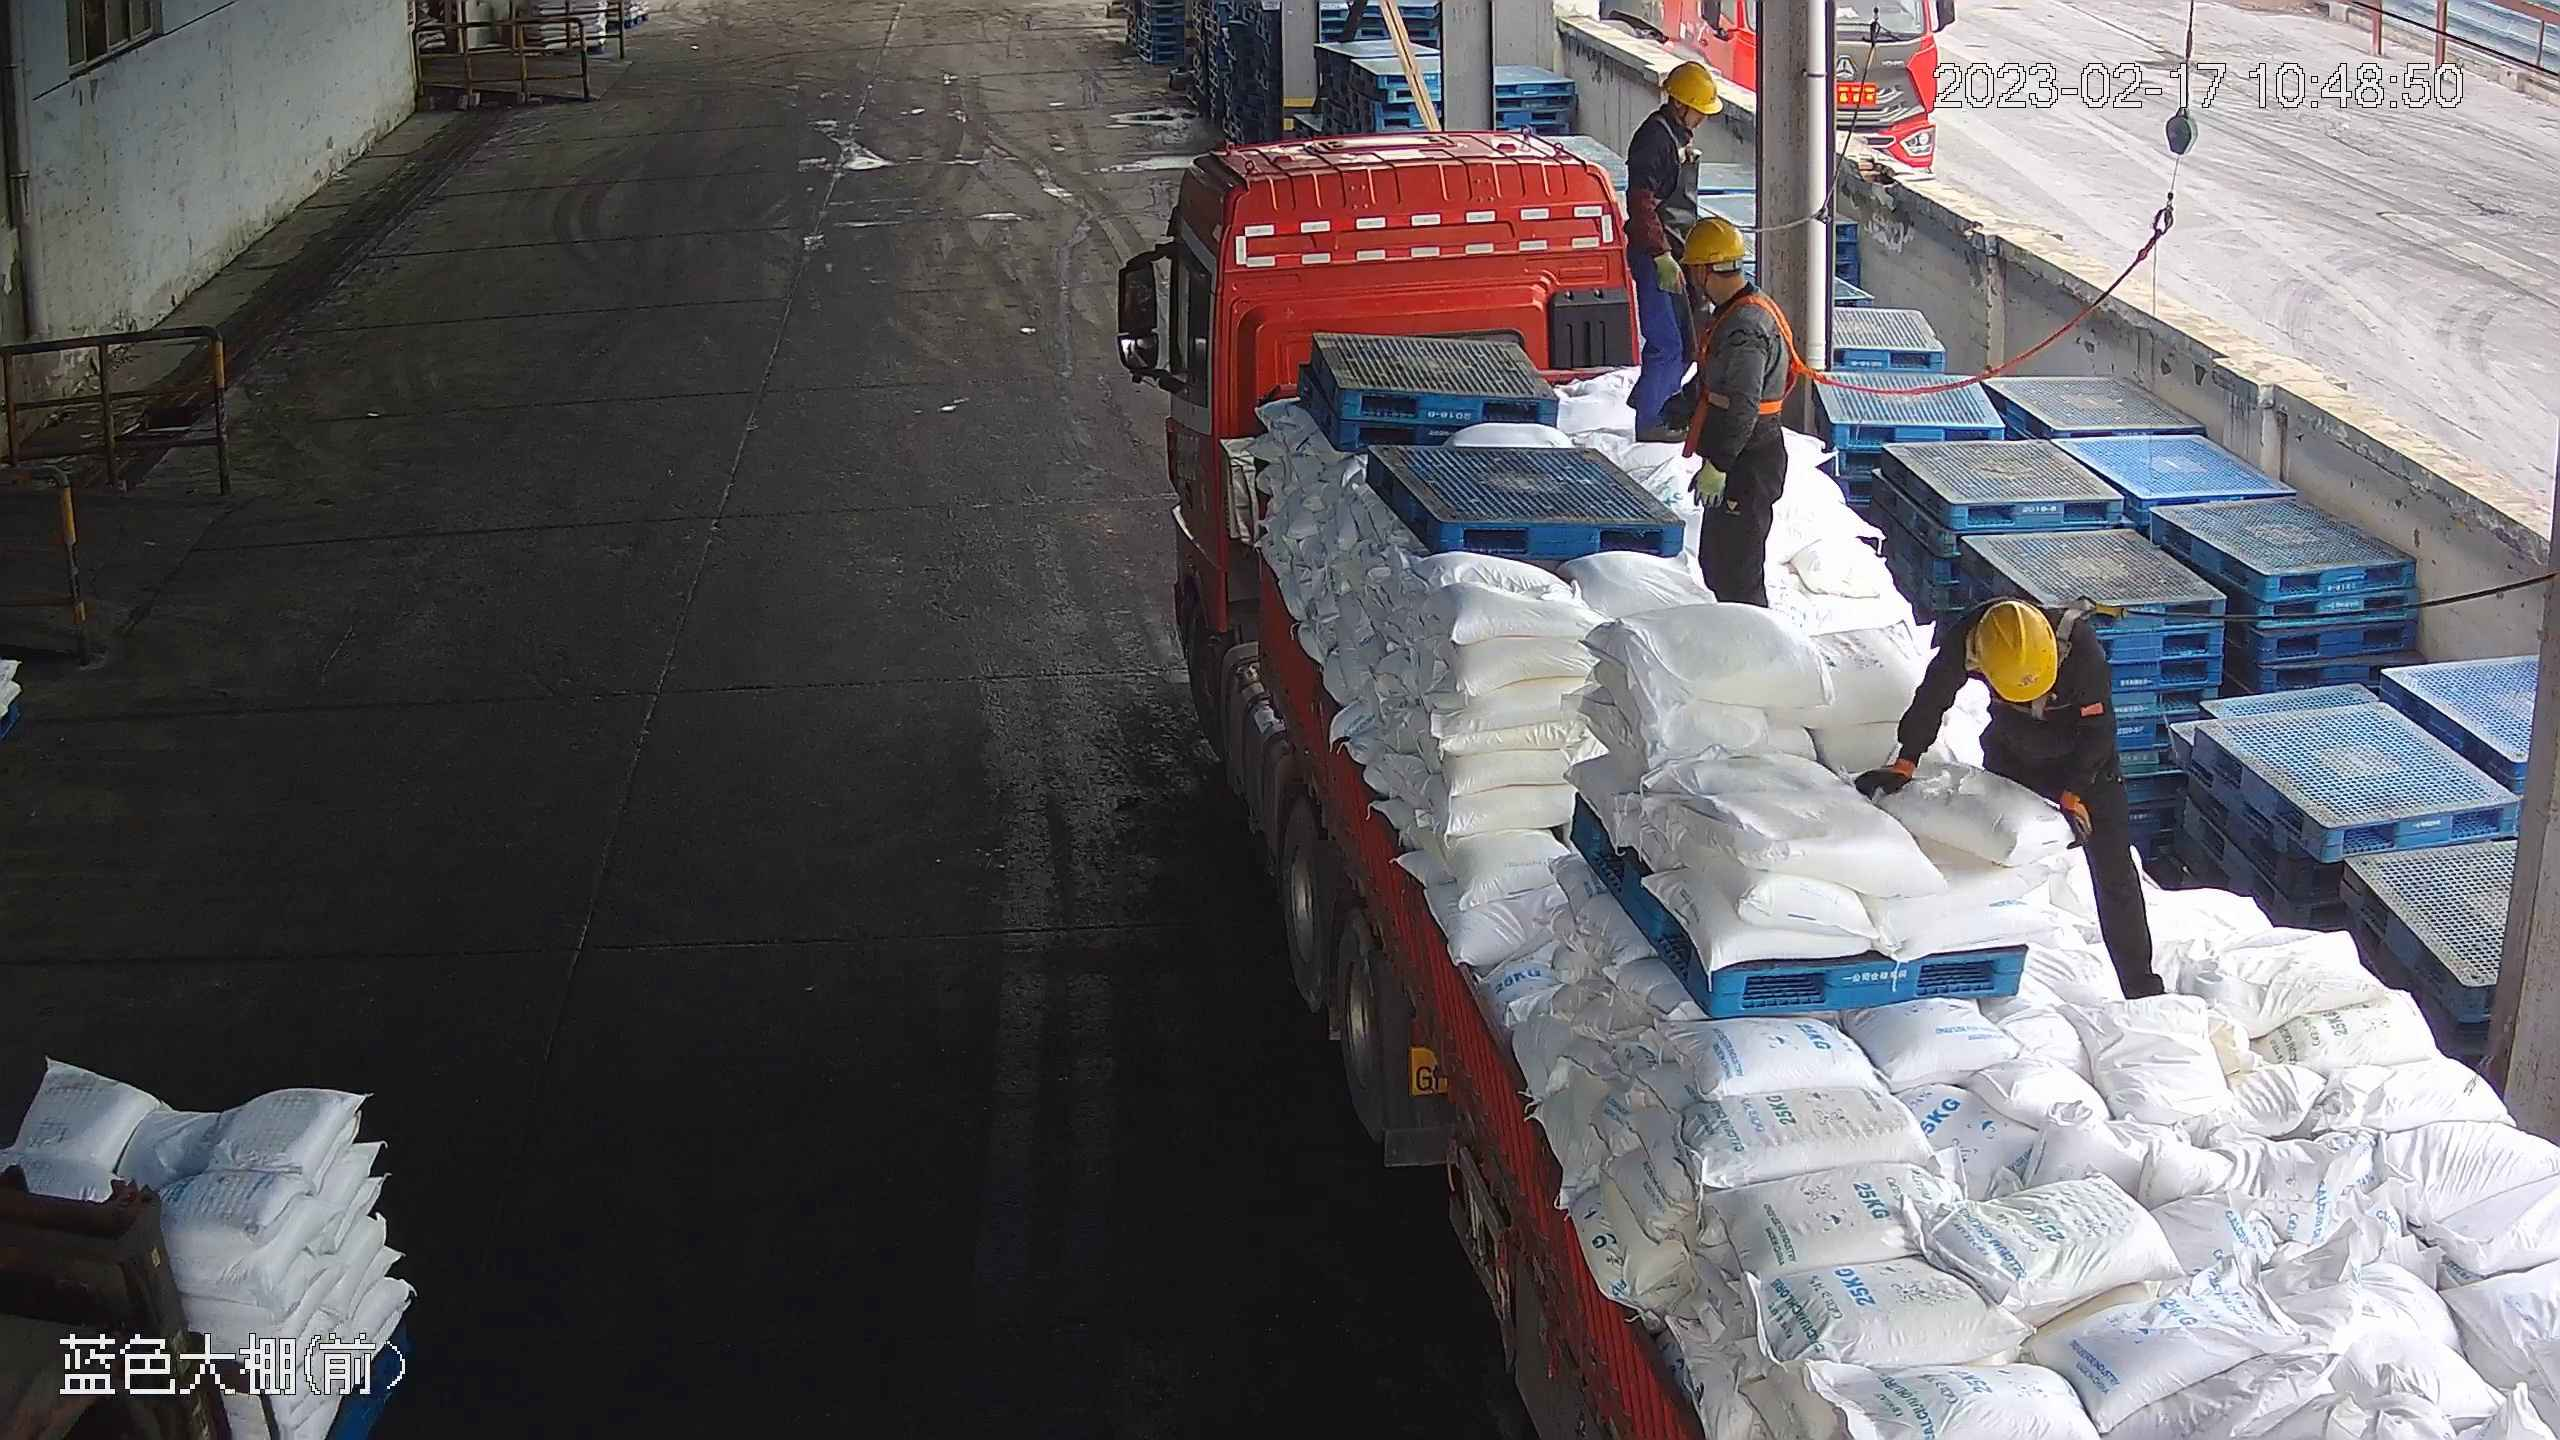belt: (1693, 290, 1820, 417), (2014, 589, 2108, 722), (1656, 115, 1701, 159)
head: (1944, 593, 2115, 721), (1676, 214, 1792, 349), (1624, 58, 1722, 173)
helmet: (1968, 596, 2058, 700), (1677, 213, 1749, 266), (1662, 60, 1722, 111)
people: (1858, 592, 2165, 1003), (1667, 212, 1798, 612), (1619, 55, 1726, 449)
truck: (1110, 125, 2560, 1440)
